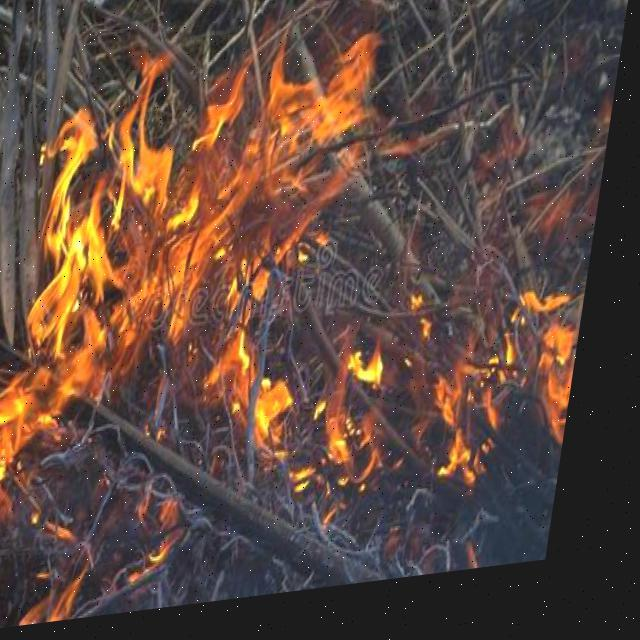Fire: (0, 14, 630, 580)
